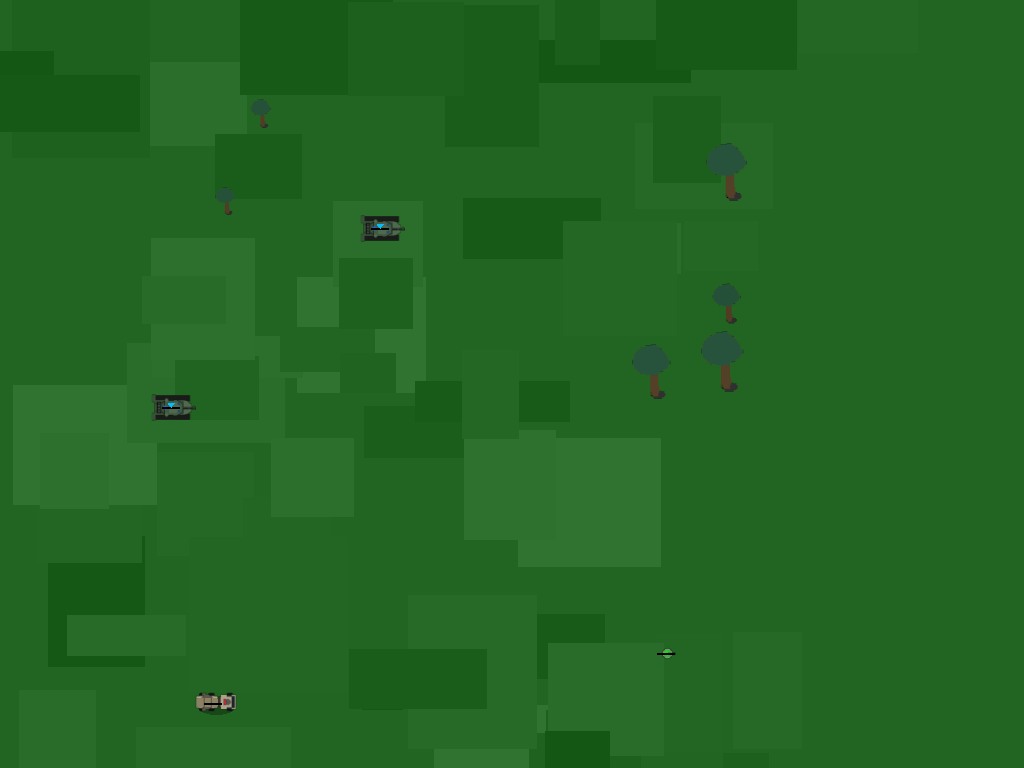HIMARS: (192, 680, 234, 722)
M1A2_rus: (356, 204, 402, 250), (148, 383, 194, 429)
Rifleman: (653, 639, 679, 665)
